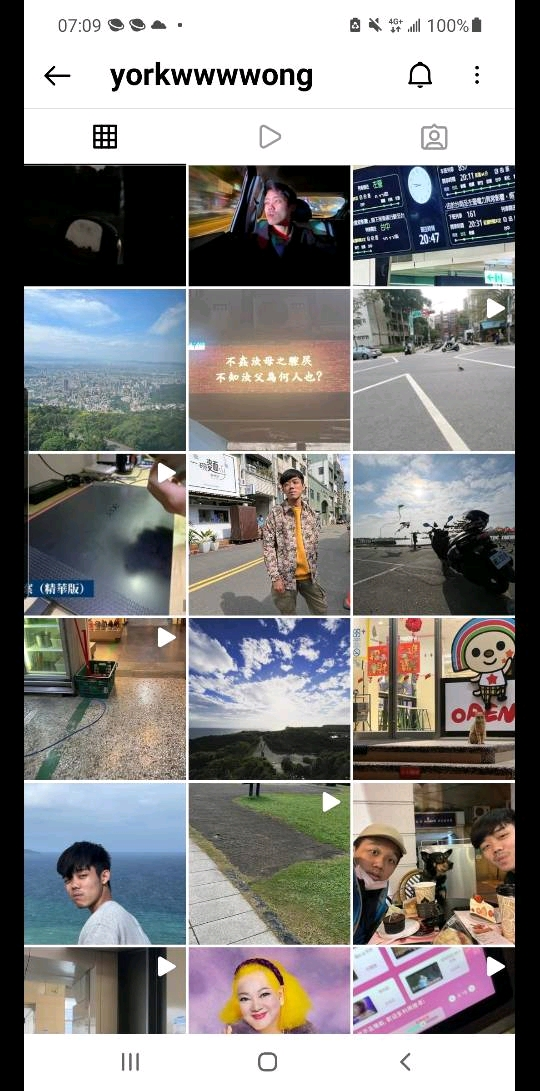back: (36, 59, 76, 93)
profile_options: (397, 48, 487, 98)
